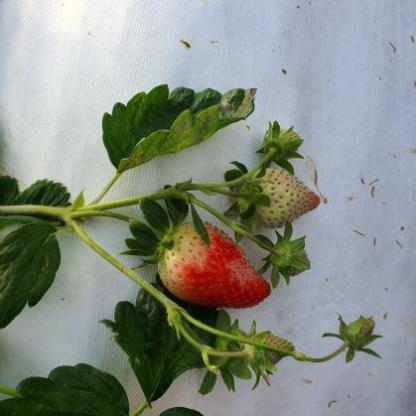Strawberry_Powdery_Mildew_Fruit: (214, 226, 268, 287)
